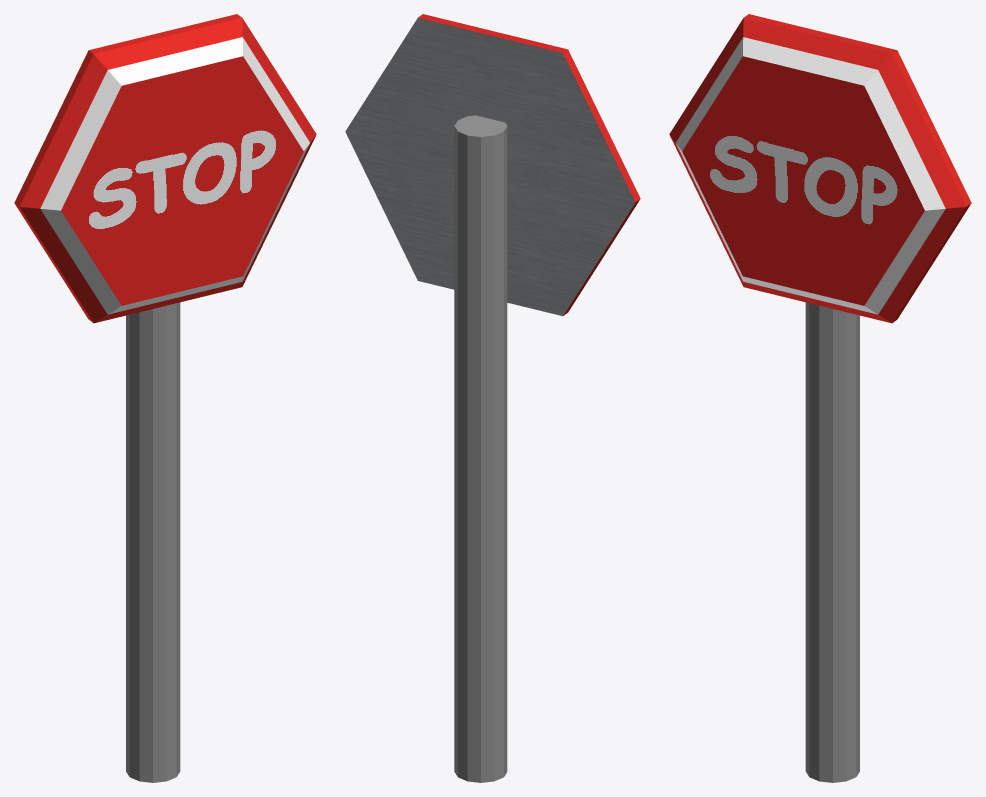
Rendered from Stopsign.fbx.
3 views of the same model, side by side, from view 1: azimuth 30°, elevation 25°; view 2: azimuth 150°, elevation 25°; view 3: azimuth 330°, elevation 25° (orthographic). The views are drawn at different scales.
Parts seen in each view (by area): view 1: pCylinder5; view 2: pCylinder5; view 3: pCylinder5.
Part boxes in pixels (left/top/right/bottom): pCylinder5: left=14, top=14, right=316, bottom=782; pCylinder5: left=345, top=14, right=640, bottom=782; pCylinder5: left=669, top=14, right=971, bottom=782.
Bounding box in the file's own units: 3.42 × 8.22 × 0.8539.
